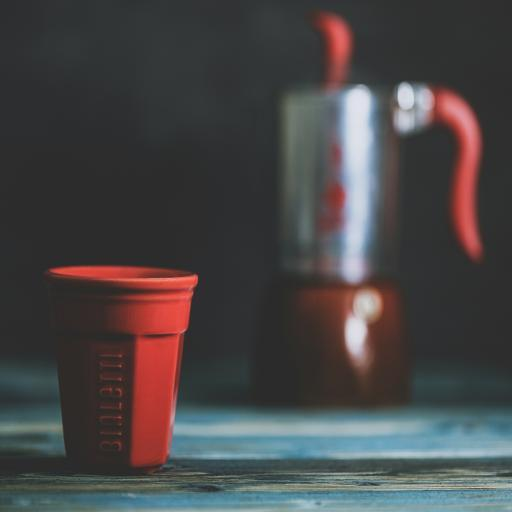cup: (43, 264, 198, 474)
